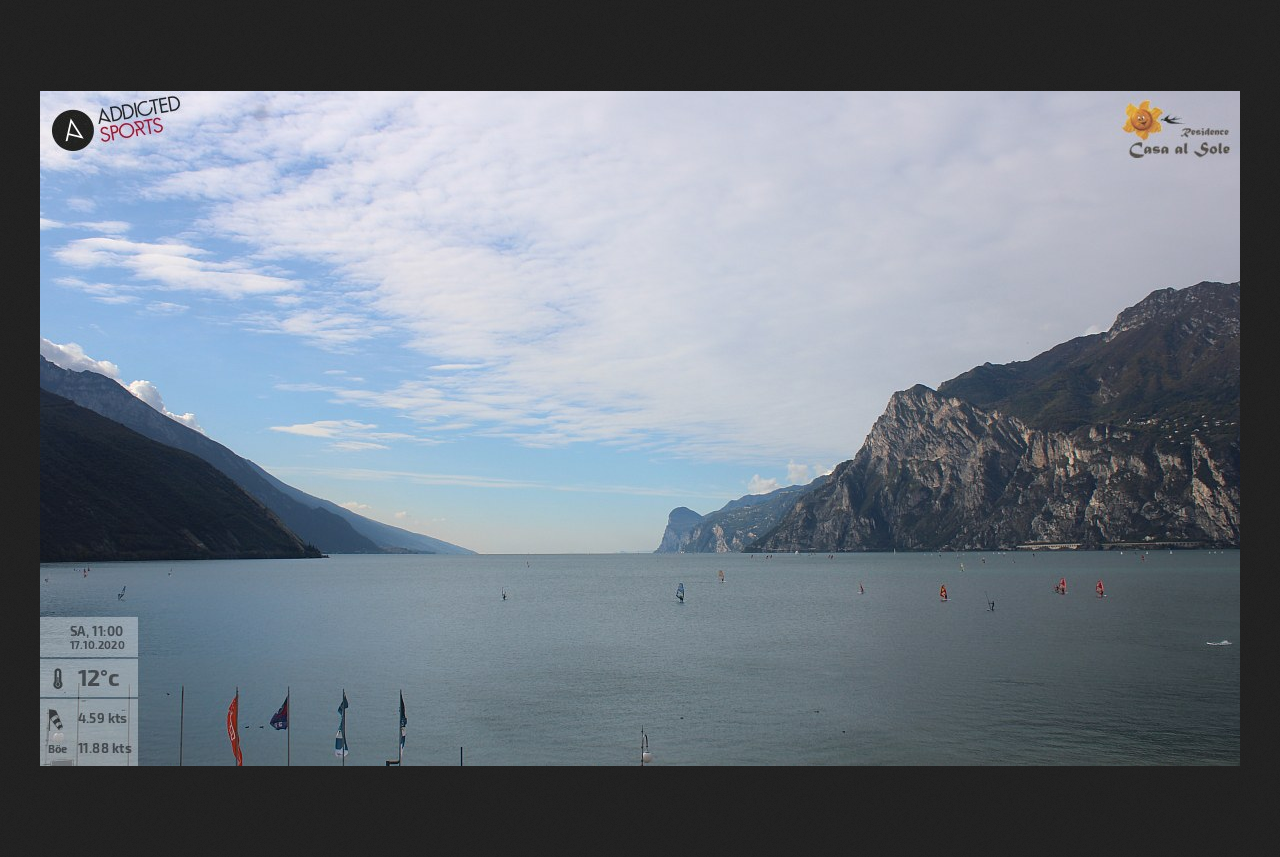maybe: (270, 692, 292, 732)
